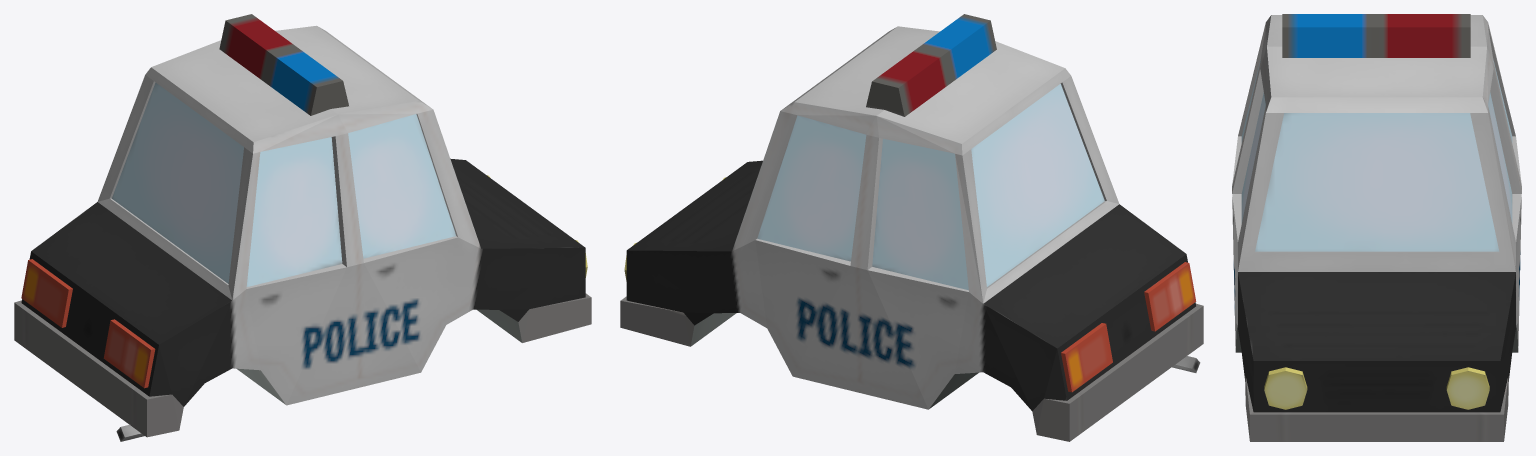
Rendered from co_PoliceCar.fbx.
The picture shows the model from 3 angles, left to right: view 1: azimuth 30°, elevation 25°; view 2: azimuth 150°, elevation 25°; view 3: azimuth 270°, elevation 25°; orthographic projection. The views are drawn at different scales.
Visible parts, largest first — view 1: PoliceCar; view 2: PoliceCar; view 3: PoliceCar.
Part boxes in pixels (x1,y1,x2,y2): PoliceCar: (14,14,591,441); PoliceCar: (620,14,1203,441); PoliceCar: (1232,14,1521,441).
Bounding box in the file's own units: 422 × 265 × 223.
